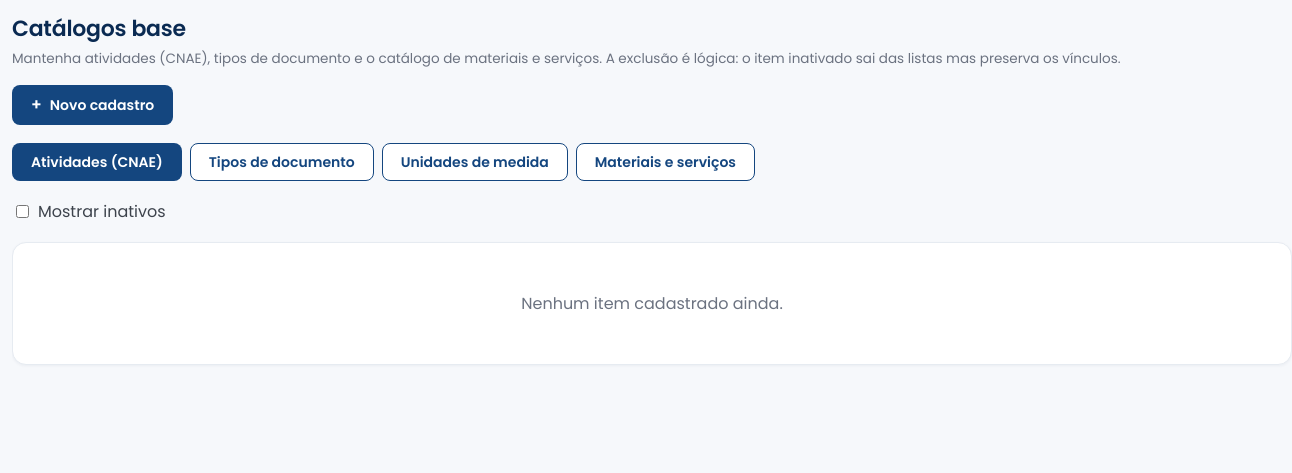
ManterCatalogos — aba Materiais e Serviços › busca filtra por número, nome ou especificação
Click the tab with test id "tab-materiais-servicos" at (665,162), box [576,143,755,181]
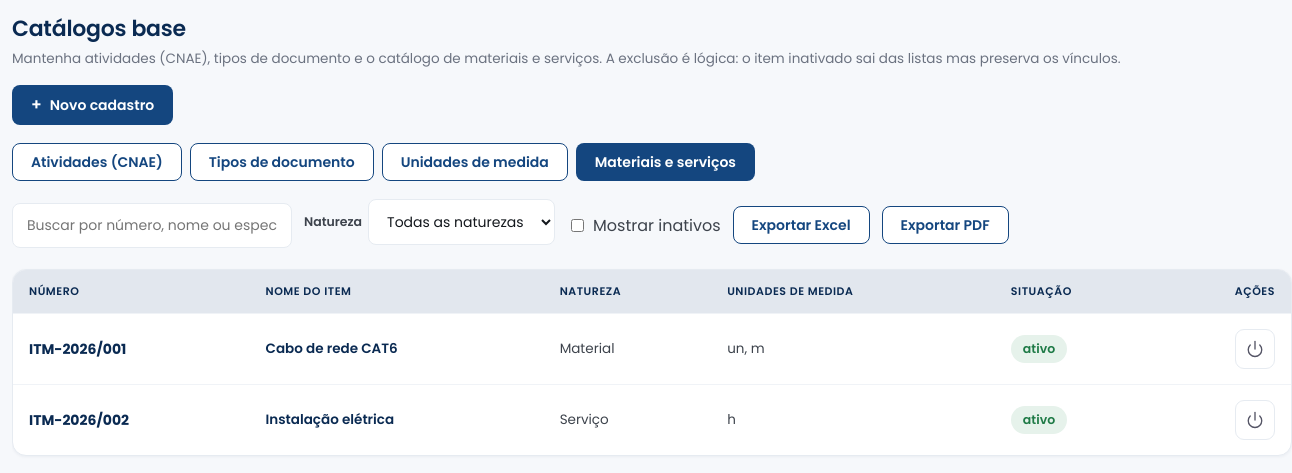
Now the number of rows with test id "item-catalogo" is 2, box [13,314,1291,384]; [13,384,1291,455]
Type "elétrica" into the field with test id "busca" at (152,225), box [12,202,292,248]
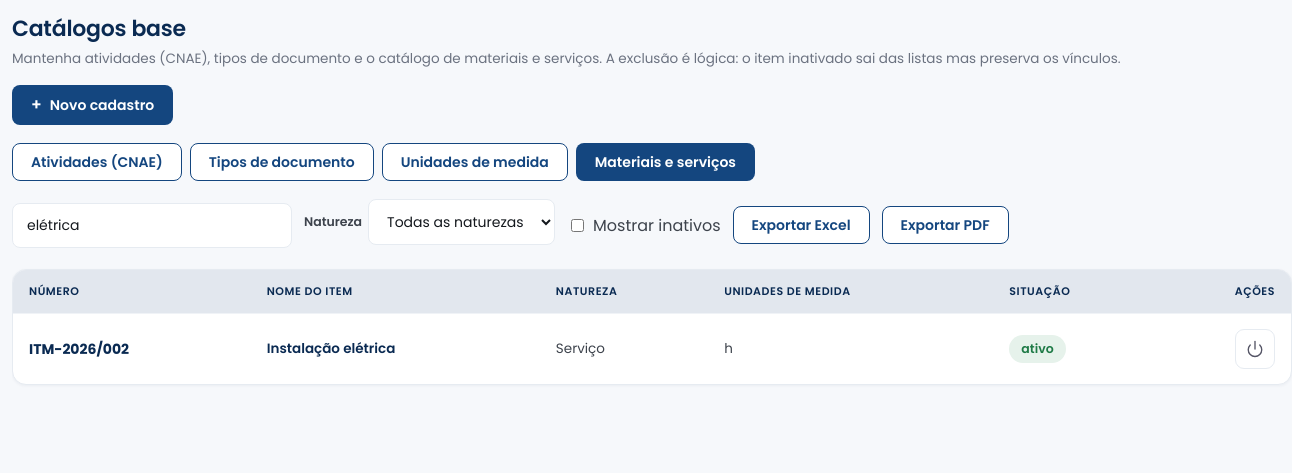
Now the text "Instalação elétrica" is shown, box [251,314,540,384]
Now the number of rows with test id "item-catalogo" is 1, box [13,314,1291,384]
Replace the text in the field with test id "busca" with "ITM-2026/001" at (152,225), box [12,202,292,248]
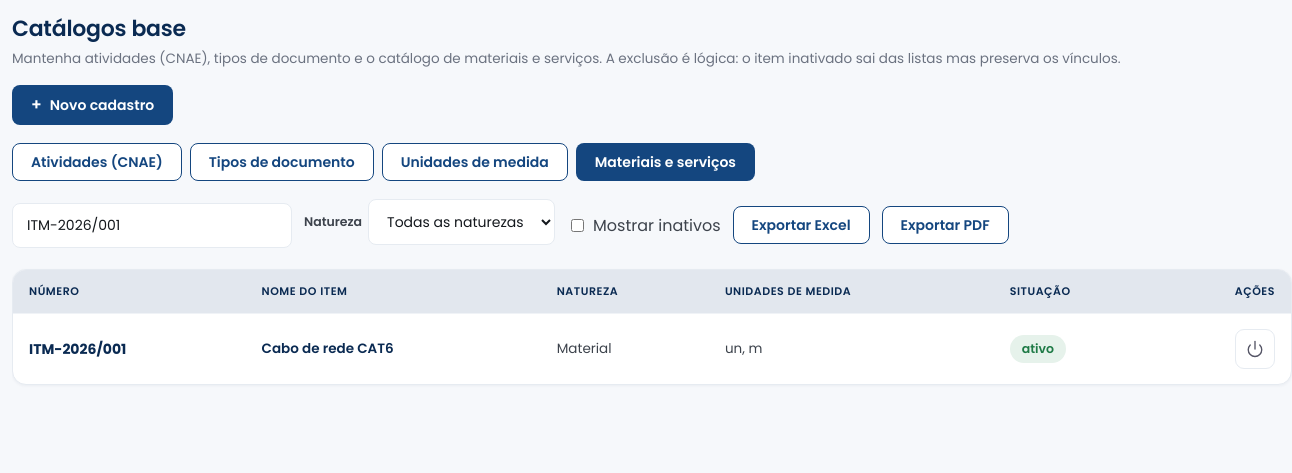
Now the text "Cabo de rede CAT6" is shown, box [246,314,541,384]
